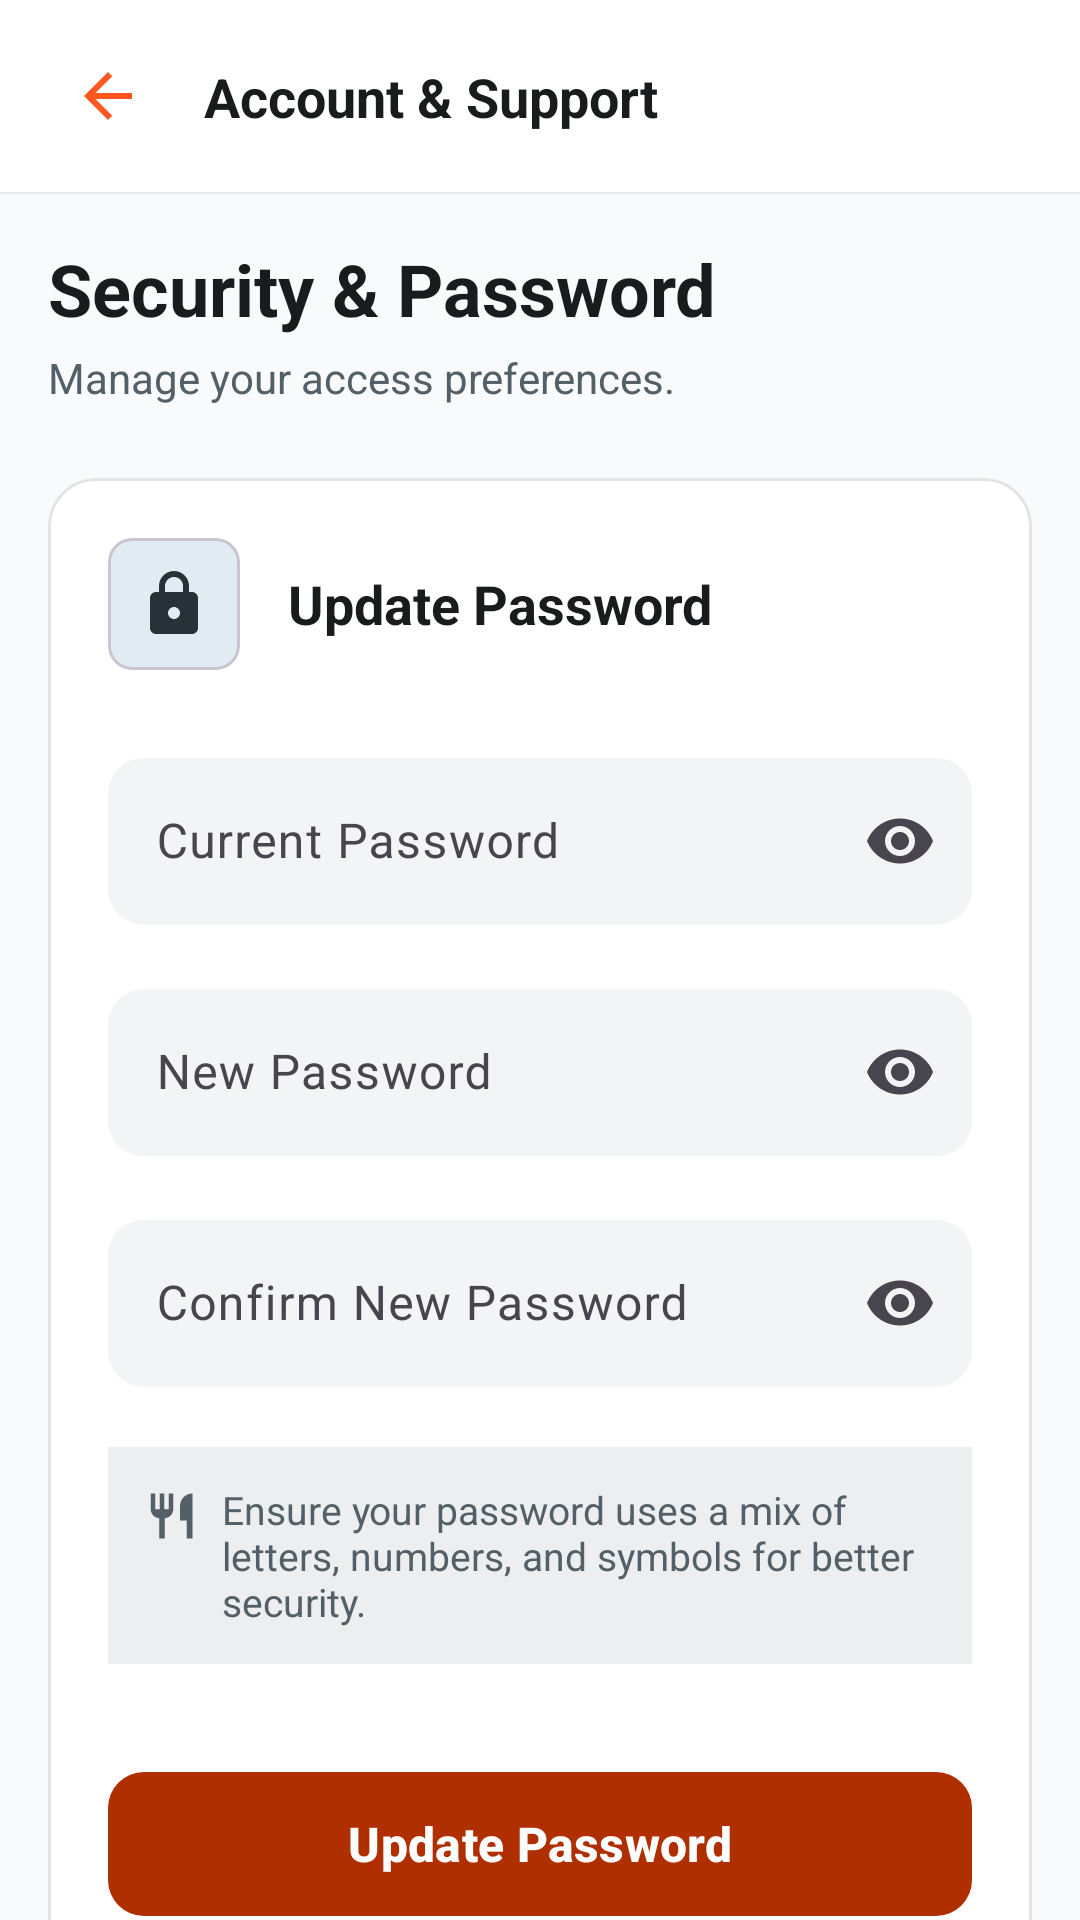

Where to tap for icons on this 1080x1920 app screen, as (x,y):
back: (108,96)
food: (171,1516)
lock: (174,602)
